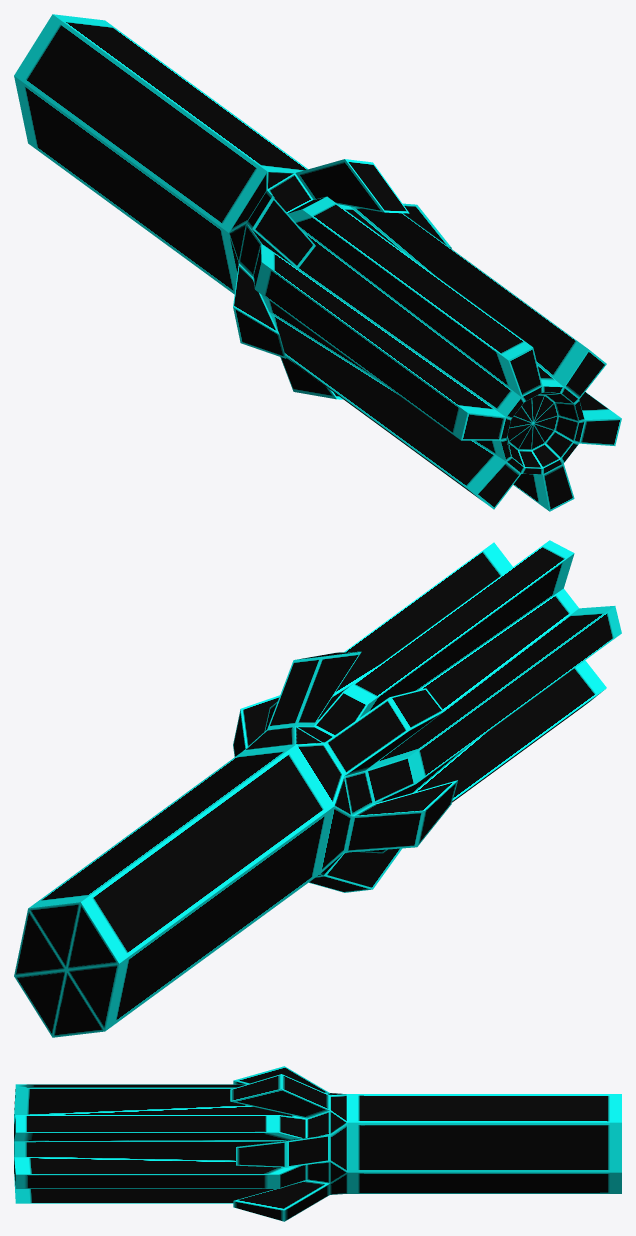
The model's file is Blaster.fbx.
3 views of the same model, one above another, from view 1: azimuth 30°, elevation 25°; view 2: azimuth 150°, elevation 25°; view 3: azimuth 270°, elevation 25° (orthographic). The views are drawn at different scales.
Visible parts, largest first — view 1: pCylinder1; view 2: pCylinder1; view 3: pCylinder1.
Boxes of the visible parts, box(x1,y1,x2,y2) form: pCylinder1: box(14, 14, 621, 511); pCylinder1: box(14, 540, 621, 1037); pCylinder1: box(14, 1066, 621, 1221).
Size of the model in its own units: 0.4019 by 0.4617 by 1.73.
1 material, 1 textured.
